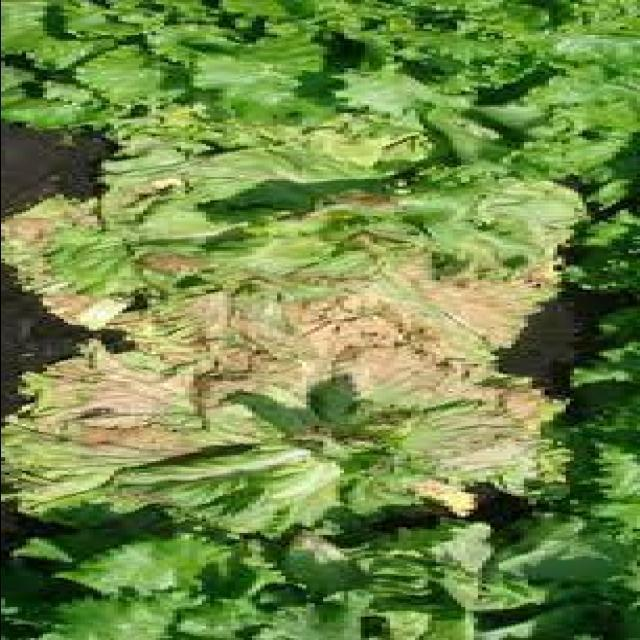Septoria_Blight: (112, 172, 486, 510)
